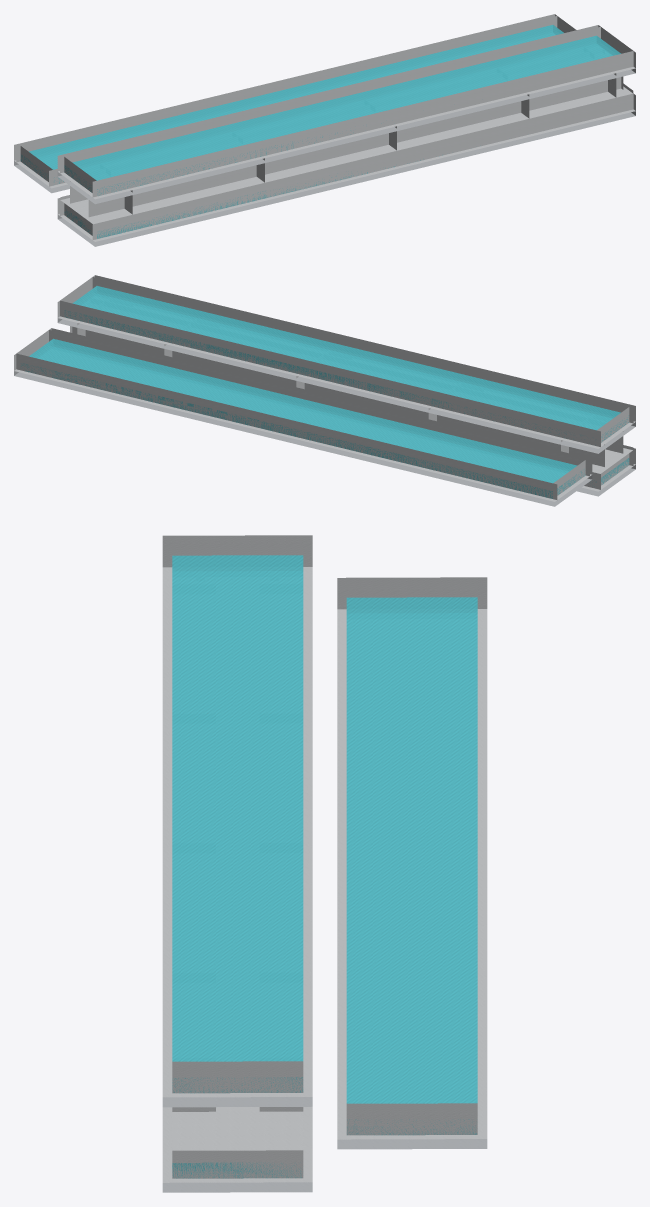
Rendered from madao-z4-pool.glb.
The picture shows the model from 3 angles, top to bottom: view 1: azimuth 30°, elevation 25°; view 2: azimuth 150°, elevation 25°; view 3: azimuth 270°, elevation 25°; orthographic projection. The views are drawn at different scales.
Visible parts, largest first — view 1: concrete_pool, poolWater_pool, concreteDark_pool; view 2: concrete_pool, poolWater_pool, concreteDark_pool; view 3: poolWater_pool, concrete_pool, concreteDark_pool.
Boxes of the visible parts, bbox=[...] form: concrete_pool: bbox=[14, 14, 635, 241]; poolWater_pool: bbox=[20, 25, 620, 238]; concreteDark_pool: bbox=[14, 68, 635, 246]; concrete_pool: bbox=[14, 275, 635, 501]; poolWater_pool: bbox=[21, 286, 629, 498]; concreteDark_pool: bbox=[14, 318, 635, 506]; poolWater_pool: bbox=[172, 555, 477, 1178]; concrete_pool: bbox=[162, 535, 487, 1182]; concreteDark_pool: bbox=[162, 1097, 487, 1192].
Bounding box in the file's own units: 286 × 32.78 × 74.4.
3 materials, 3 textured.
